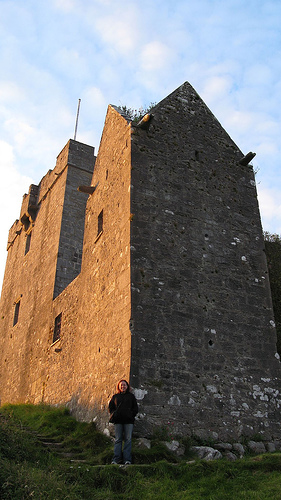without_mask: (117, 378, 130, 394)
